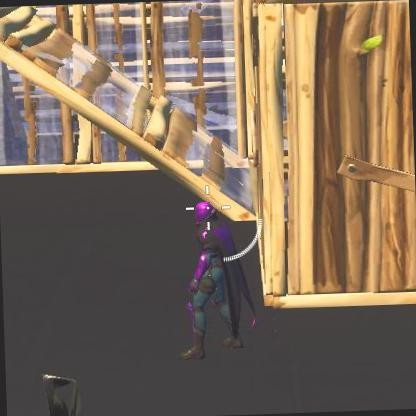person: (182, 198, 263, 356), (178, 249, 226, 361)
